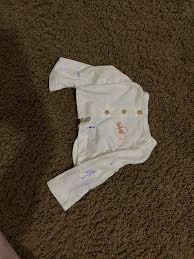ink: (83, 169, 95, 177), (88, 125, 94, 129), (77, 72, 80, 77)
